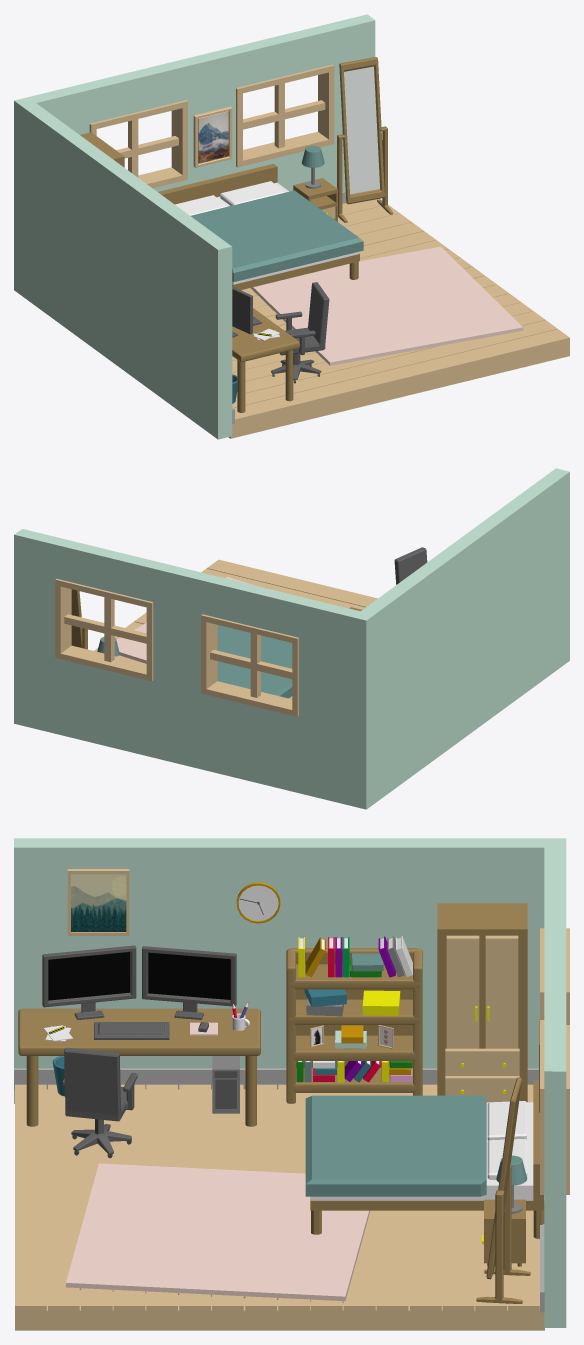
File: ROOM.fbx
3 renders of one model, top to bottom at view 1: azimuth 30°, elevation 25°; view 2: azimuth 150°, elevation 25°; view 3: azimuth 270°, elevation 25°, orthographic. The views are drawn at different scales.
Parts seen in each view (by area): view 1: Walls, FloorBoards, Mat, Quilt, Mirror, WindowFrame1, WindowFrame, BedFrame, Desk, Chair, Picture3, Base (+5 smaller); view 2: Walls, WindowFrame1, WindowFrame, Quilt, FloorBoards, Chair, Mat, Mirror; view 3: Walls, FloorBoards, Mat, Quilt, Wardrobe, Base, BookCase2, Desk, Chair, Monitor1, Monitor, Picture4 (+15 smaller).
Part boxes in pixels (bbox=[...]): Walls: bbox=[14, 14, 375, 439]; FloorBoards: bbox=[232, 198, 569, 433]; Mat: bbox=[251, 246, 523, 365]; Quilt: bbox=[190, 190, 363, 282]; Mirror: bbox=[337, 57, 392, 222]; WindowFrame1: bbox=[236, 64, 334, 167]; WindowFrame: bbox=[89, 100, 187, 188]; BedFrame: bbox=[158, 164, 359, 290]; Desk: bbox=[232, 308, 299, 412]; Chair: bbox=[271, 282, 329, 383]; Picture3: bbox=[193, 106, 232, 167]; Base: bbox=[228, 352, 569, 438]; Walls: bbox=[14, 468, 569, 809]; WindowFrame1: bbox=[55, 579, 153, 681]; WindowFrame: bbox=[201, 614, 298, 716]; Quilt: bbox=[217, 625, 292, 698]; FloorBoards: bbox=[94, 559, 377, 662]; Chair: bbox=[394, 547, 427, 584]; Mat: bbox=[116, 576, 254, 663]; Mirror: bbox=[71, 589, 87, 649]; Walls: bbox=[14, 838, 566, 1327]; FloorBoards: bbox=[15, 1084, 539, 1310]; Mat: bbox=[66, 1163, 370, 1302]; Quilt: bbox=[305, 1095, 486, 1196]; Wardrobe: bbox=[437, 903, 527, 1102]; Base: bbox=[15, 1089, 544, 1330]; BookCase2: bbox=[286, 948, 422, 1103]; Desk: bbox=[18, 1008, 260, 1126]; Chair: bbox=[62, 1047, 137, 1158]; Monitor1: bbox=[42, 945, 136, 1019]; Monitor: bbox=[142, 946, 236, 1019]; Picture4: bbox=[67, 869, 129, 935].
Bounding box in the file's own units: 25.19 × 13.09 × 25.36.
